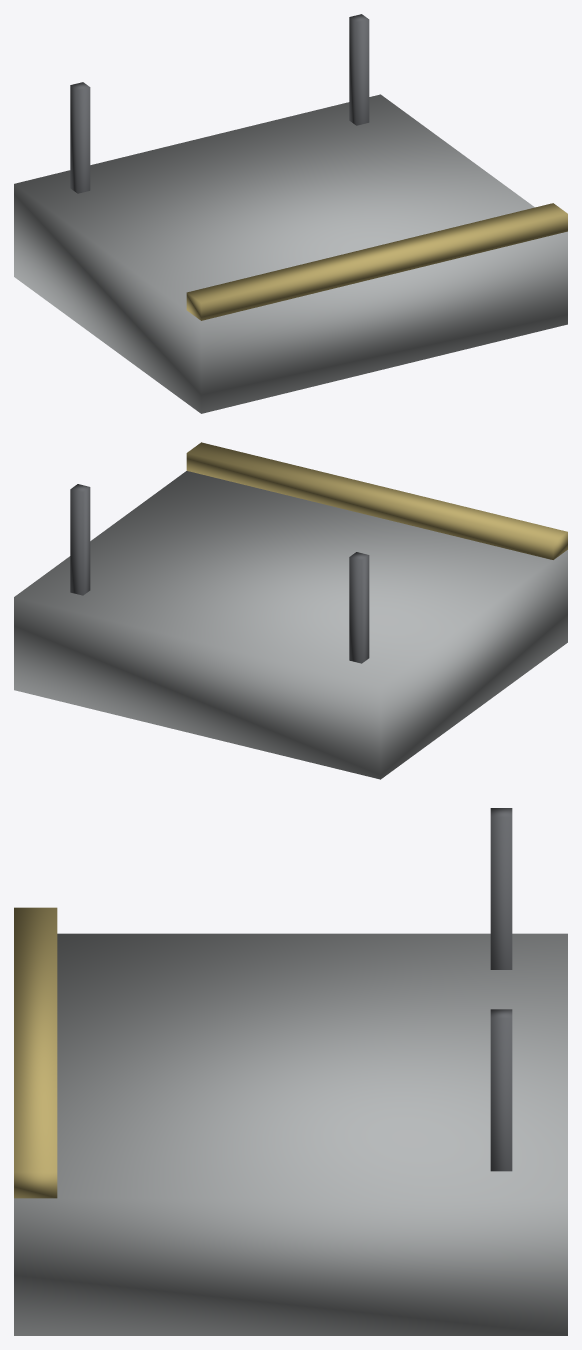
File: loading_dock_08.glb
3 renders of one model, top to bottom at view 1: azimuth 30°, elevation 25°; view 2: azimuth 150°, elevation 25°; view 3: azimuth 270°, elevation 25°, orthographic. The views are drawn at different scales.
Parts seen in each view (by area): view 1: world; view 2: world; view 3: world.
Part boxes in pixels (box(x1,y1,x2,y2)): world: box(14, 14, 567, 413); world: box(14, 442, 567, 779); world: box(14, 808, 567, 1335).
Bounding box in the file's own units: 2.6 × 1.33 × 2.3.
